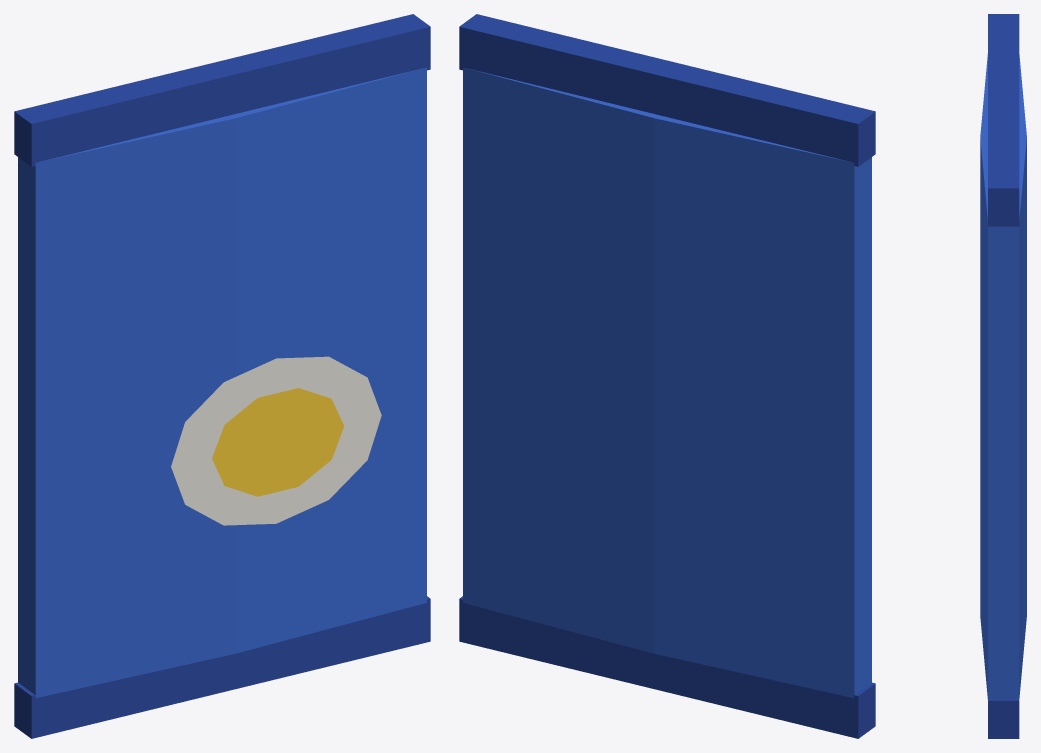
Rendered from s-crisps.glb.
3 renders of one model, left to right at view 1: azimuth 30°, elevation 25°; view 2: azimuth 150°, elevation 25°; view 3: azimuth 270°, elevation 25°, orthographic. The views are drawn at different scales.
Parts seen in each view (by area): view 1: s_crisps; view 2: s_crisps; view 3: s_crisps.
Part boxes in pixels (<box>): s_crisps: <box>14,14,430,738</box>; s_crisps: <box>459,14,875,738</box>; s_crisps: <box>980,14,1026,738</box>.
Bounding box in the file's own units: 0.1326 × 0.1952 × 0.0395.
